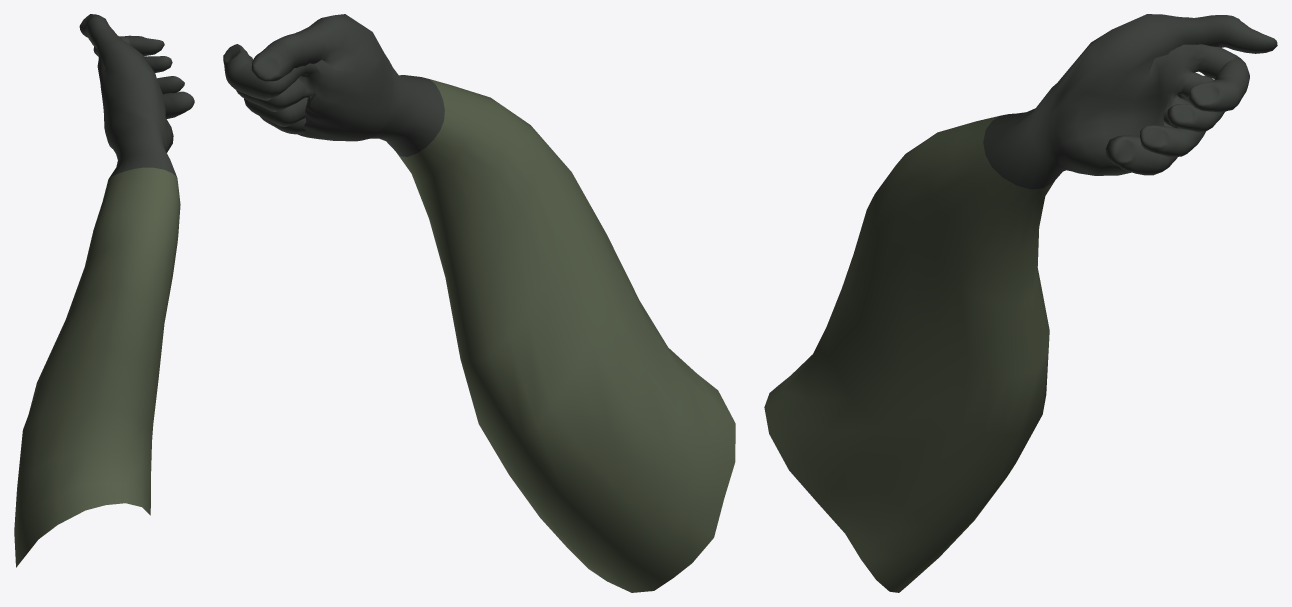
The model's file is gripfit_left.glb.
3 views of the same model, side by side, from view 1: azimuth 30°, elevation 25°; view 2: azimuth 150°, elevation 25°; view 3: azimuth 270°, elevation 25° (orthographic). The views are drawn at different scales.
Visible parts, largest first — view 1: gripfit_left; view 2: gripfit_left; view 3: gripfit_left.
Boxes of the visible parts, <box> form: gripfit_left: <box>14,14,194,567</box>; gripfit_left: <box>223,14,735,592</box>; gripfit_left: <box>764,14,1277,592</box>.
Bounding box in the file's own units: 0.2271 × 0.3842 × 0.2698.
